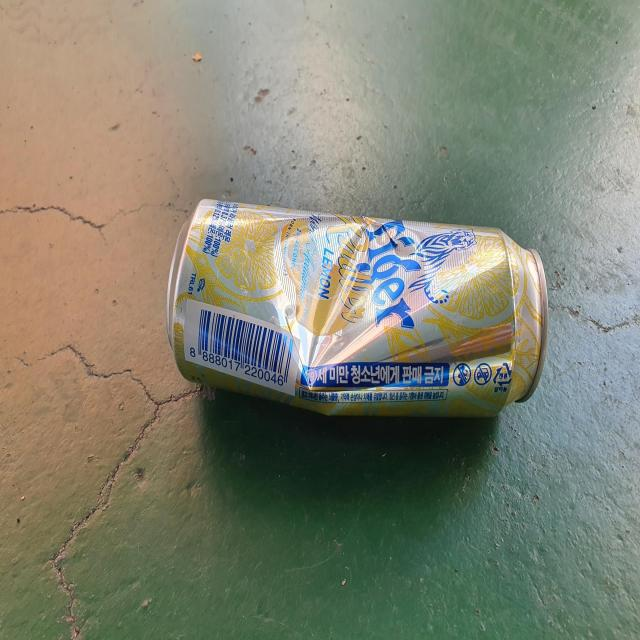can: (166, 199, 549, 417)
